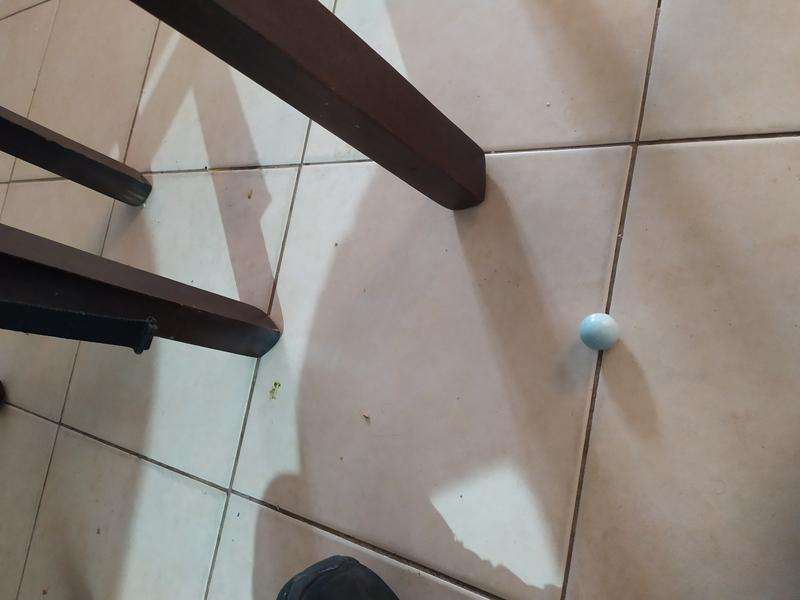Warning: (577, 311, 623, 353)
